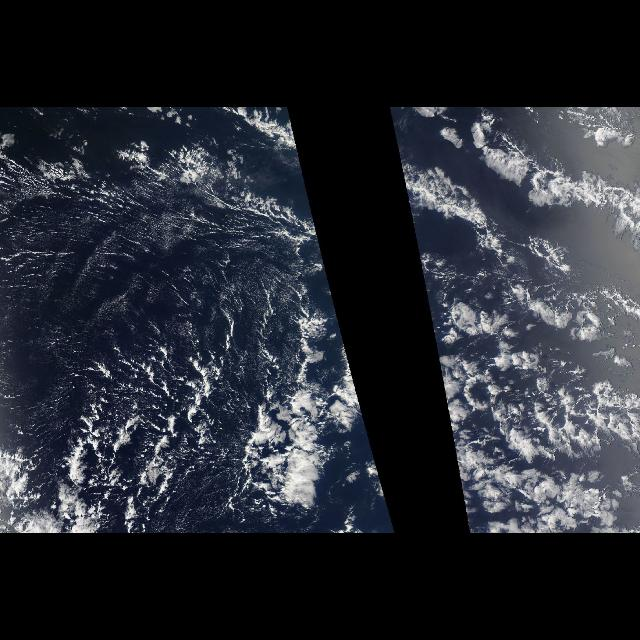Fish: (94, 268, 326, 524)
Flower: (438, 187, 636, 528)
Gravel: (14, 153, 262, 515)
Sugar: (9, 175, 293, 383)
